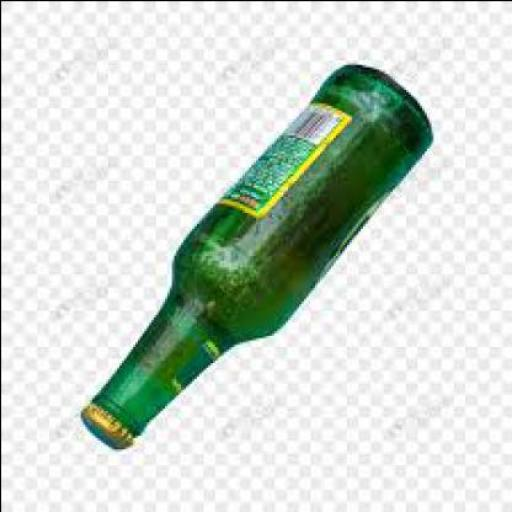glass: (89, 61, 428, 433)
metal: (78, 401, 132, 446)
